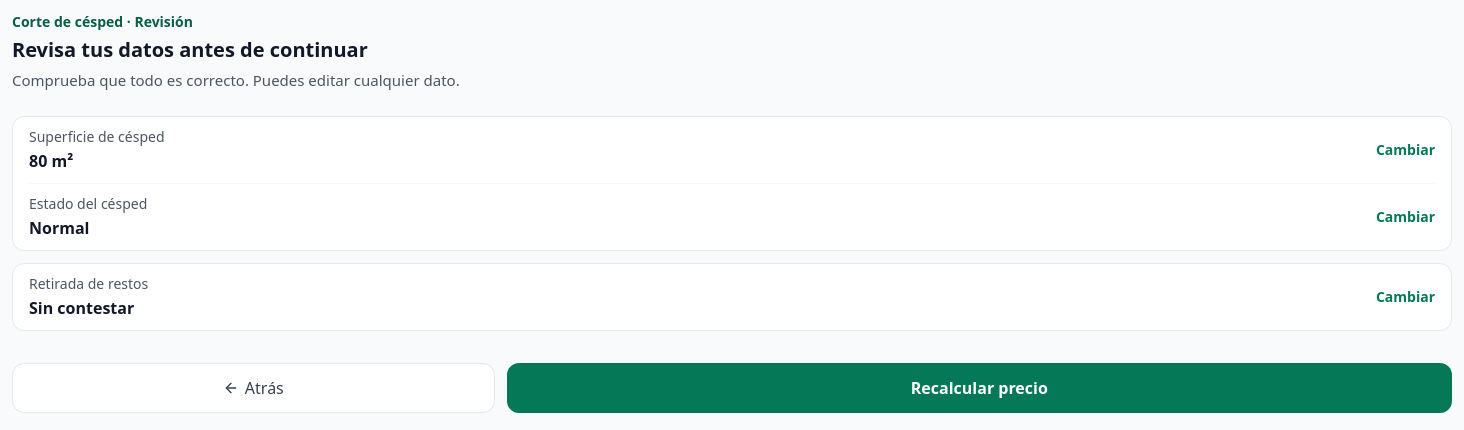
Test: revisión › sin la retirada contestada, confirmar lleva a la pregunta en vez de enviar
Click the button "Recalcular precio" at [979, 388], box [507, 363, 1452, 413]
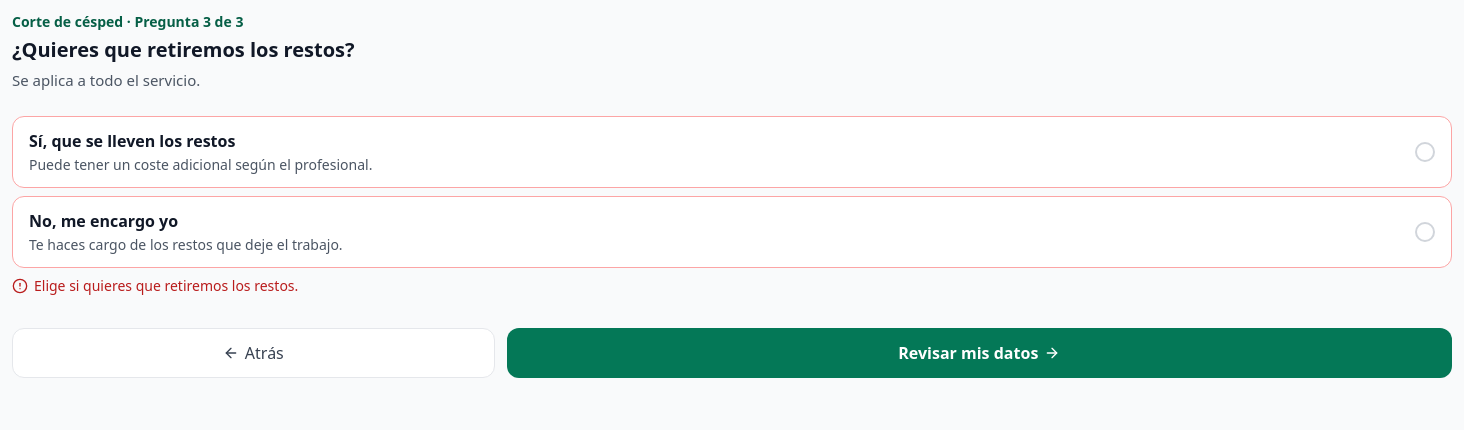
Check: the heading reads "¿Quieres que retiremos los restos?", box [12, 36, 354, 63]
